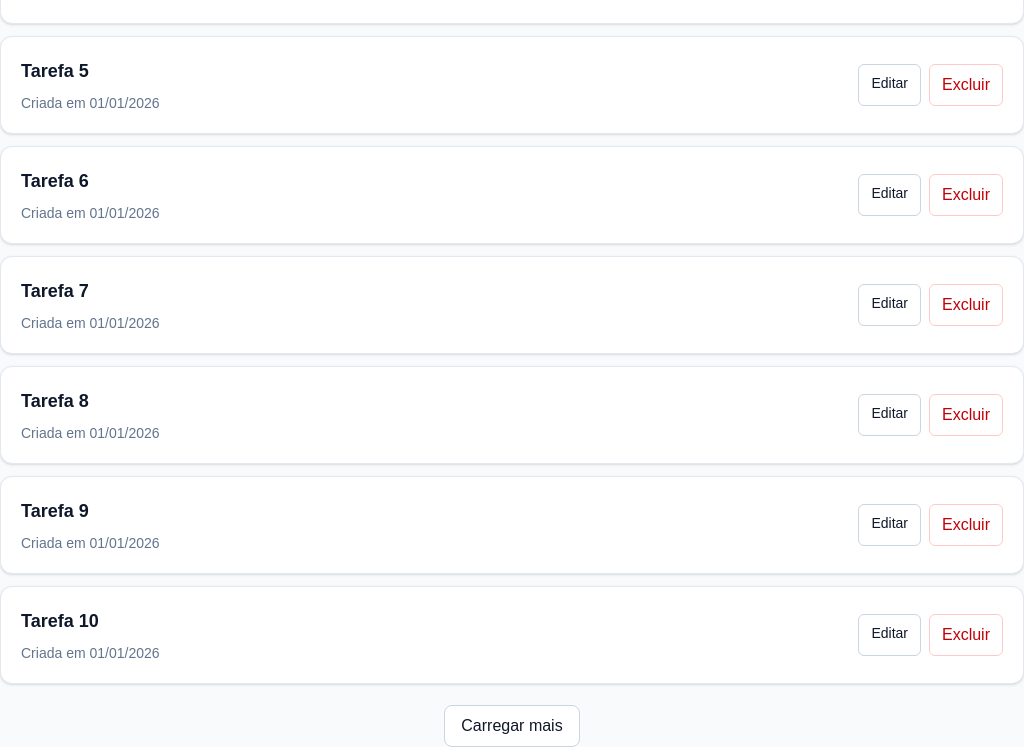
Scenario: TaskList › reveals more tasks incrementally
The width and height of the screenshot is (1024, 747).
(page scrolled)
Expected: the heading "Tarefa 10" is shown, [21,611,99,631]
Expected: the text "Tarefa 11" is not shown
Click the button "Carregar mais" at (512, 726), box [444,705,580,746]
(page scrolled)
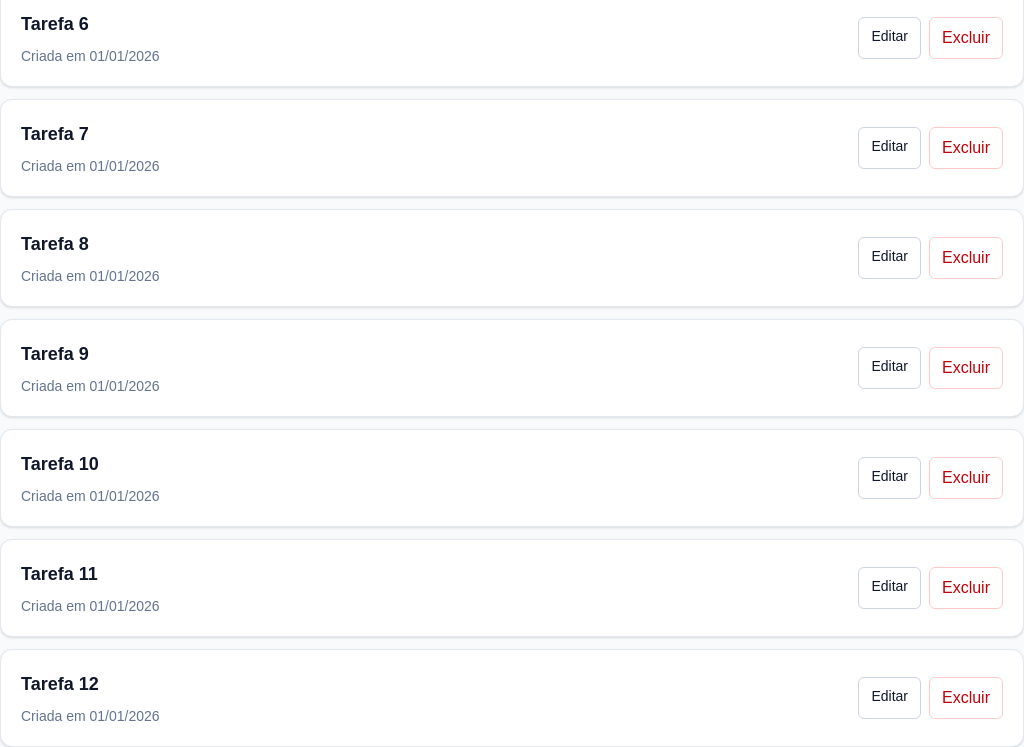
Expected: the heading "Tarefa 11" is shown, [21,564,98,584]
Expected: the heading "Tarefa 12" is shown, [21,674,99,694]
